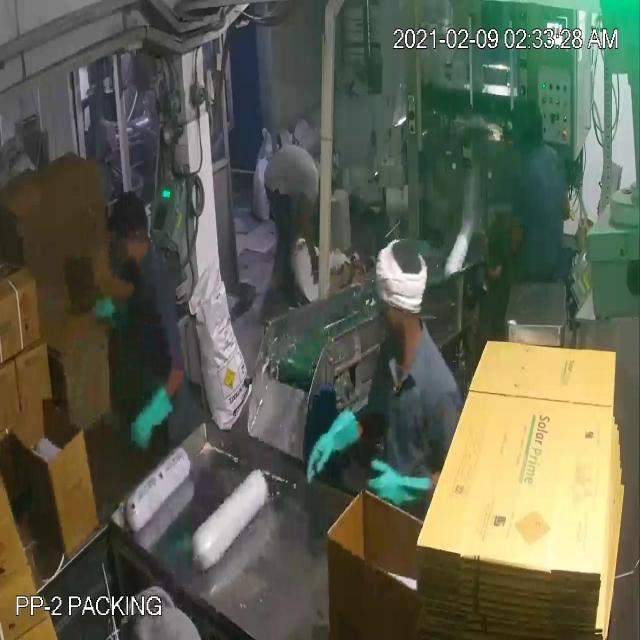gloves: (299, 394, 363, 495), (359, 455, 437, 525), (121, 376, 183, 453), (84, 280, 135, 348)
no-gloves: (294, 185, 329, 287)
